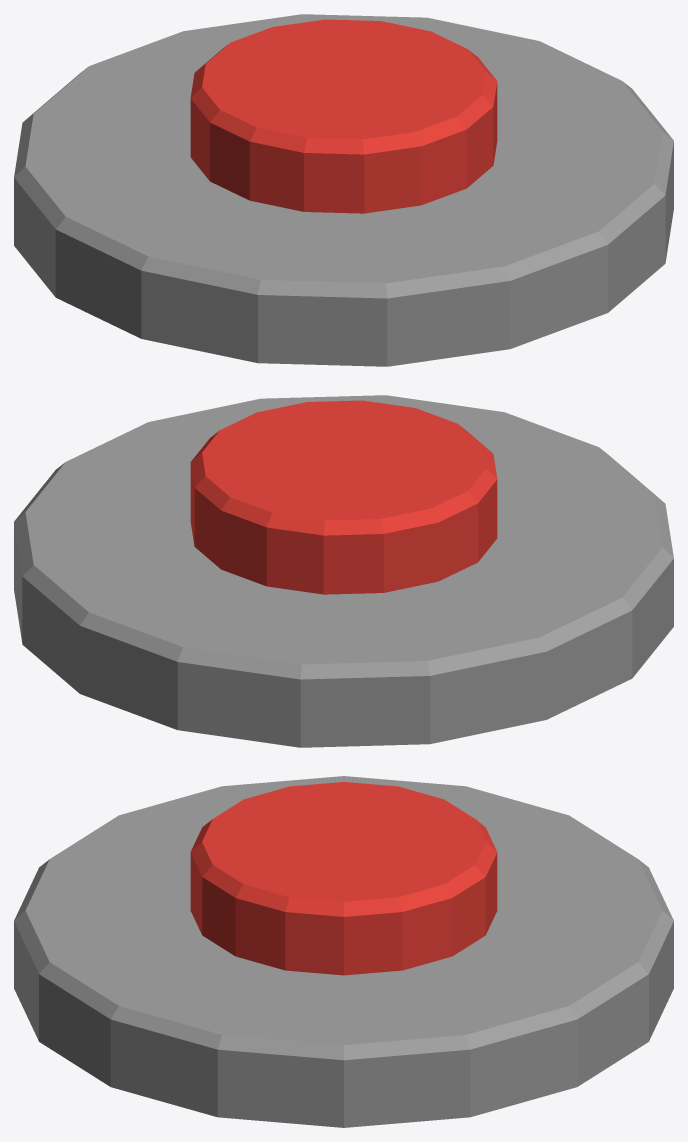
Rendered from mine_model.fbx.
3 renders of one model, top to bottom at view 1: azimuth 30°, elevation 25°; view 2: azimuth 150°, elevation 25°; view 3: azimuth 270°, elevation 25°, orthographic.
Parts seen in each view (by area): view 1: Circle, Circle.001; view 2: Circle, Circle.001; view 3: Circle, Circle.001.
Part boxes in pixels (x1,y1,x2,y2): Circle: (14,14,673,366); Circle.001: (190,19,497,213); Circle: (14,395,673,747); Circle.001: (190,400,497,594); Circle: (14,776,673,1127); Circle.001: (190,782,497,975).
Size of the model in its own units: 519 by 127 by 519.
